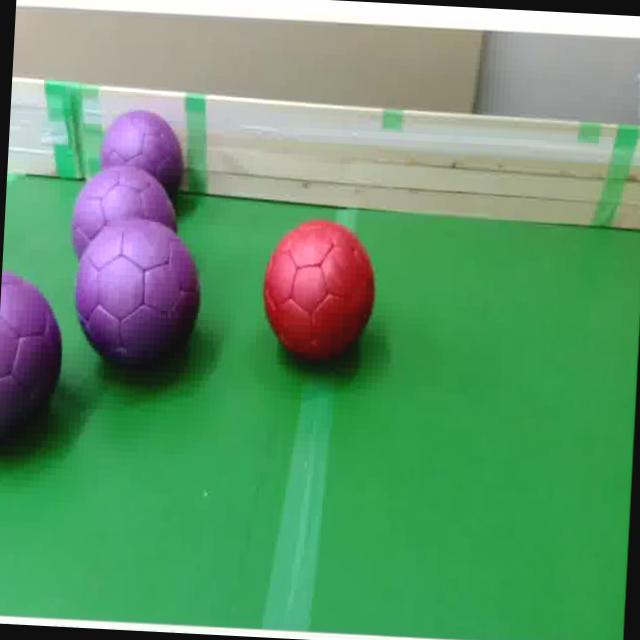purple_ball: (74, 216, 207, 377), (0, 271, 71, 443), (71, 162, 180, 266), (96, 111, 192, 208)
red_ball: (263, 214, 377, 364)
